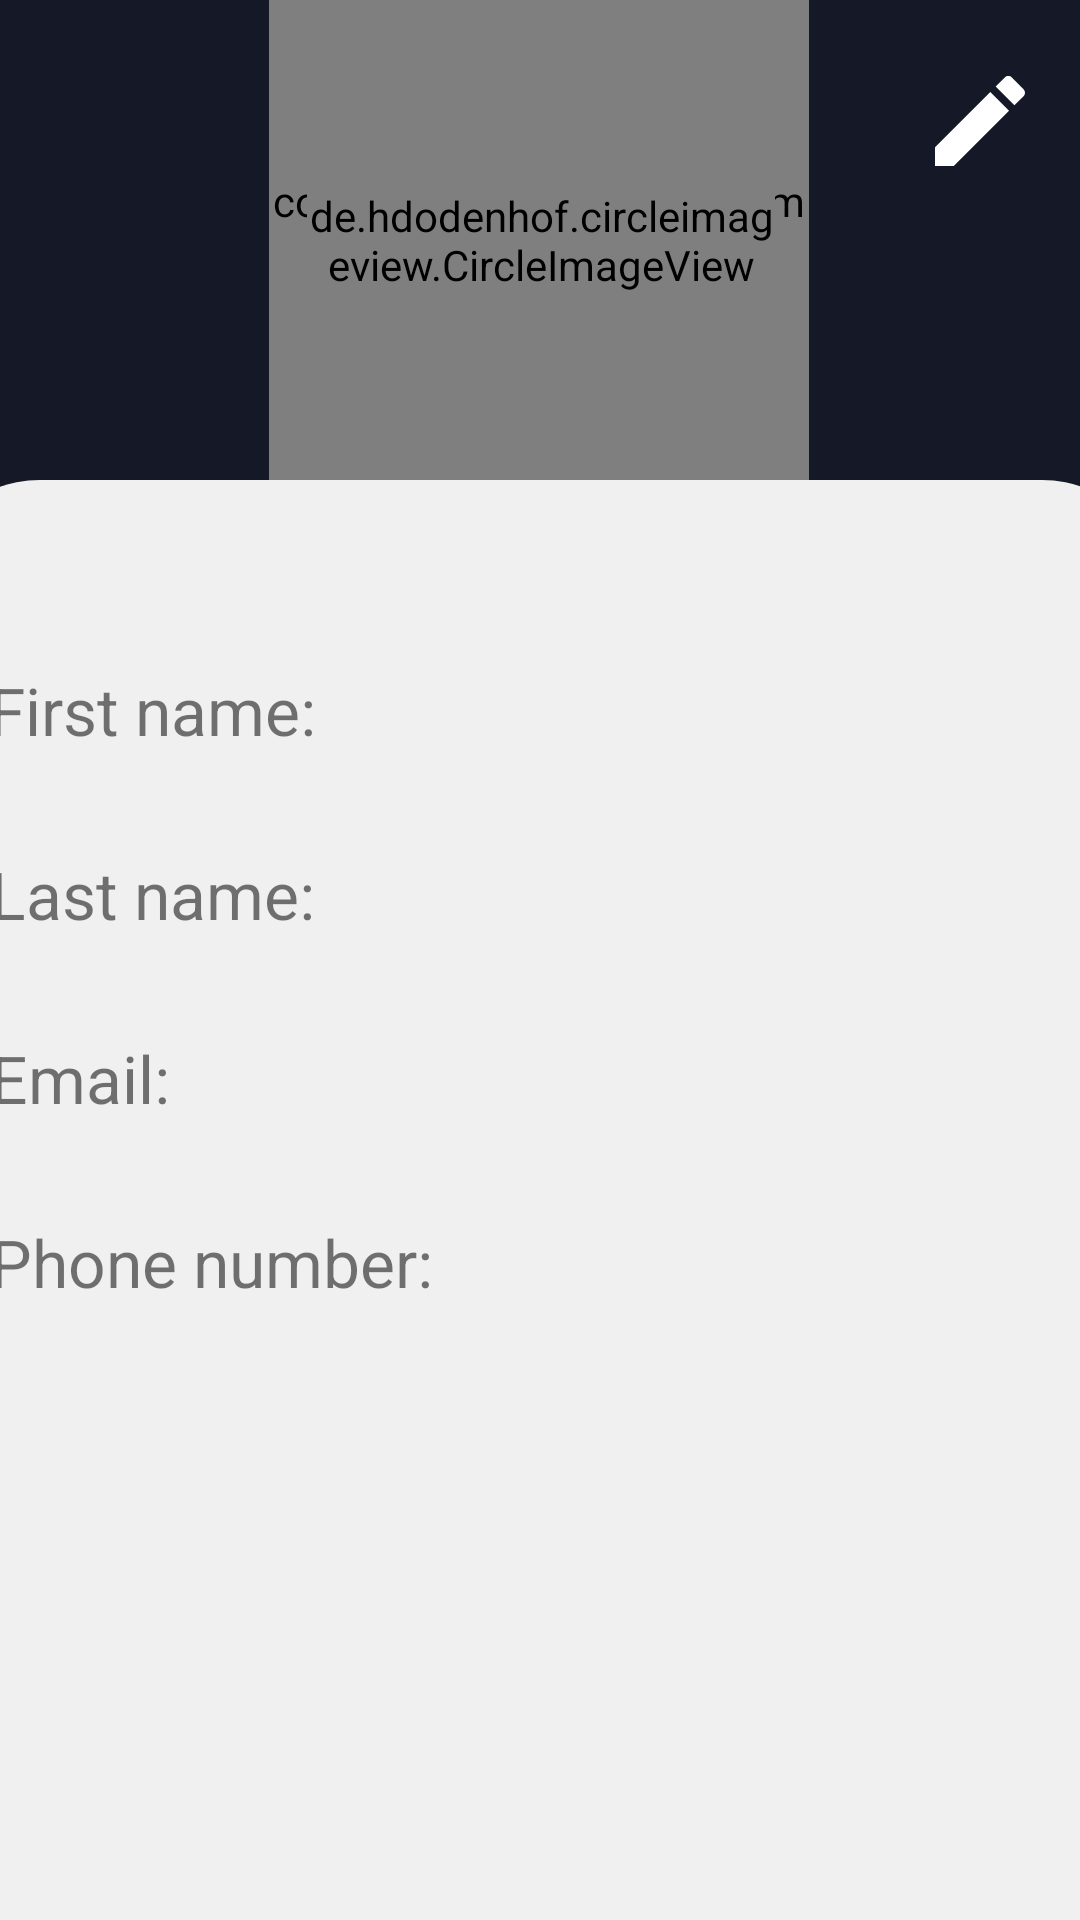

Where icons sit on this 1080px x 1920px app screen, as (x1, y1, x2, y2):
edit: (935, 76, 1025, 166)
